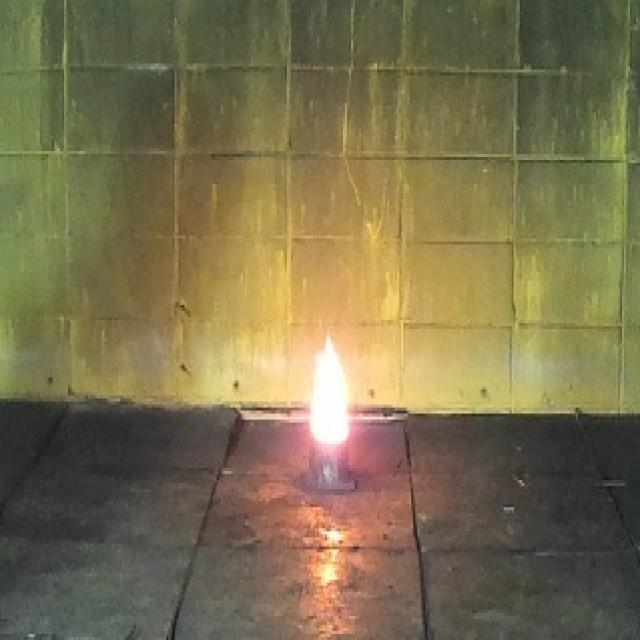Fire: (311, 331, 349, 444)
